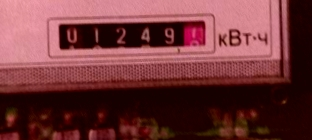0: (66, 24, 79, 44)
1: (91, 24, 101, 44)
2: (115, 25, 128, 45)
4: (140, 24, 151, 44)
7: (188, 20, 200, 40)
9: (163, 25, 176, 46)
screen: (39, 10, 215, 59)
